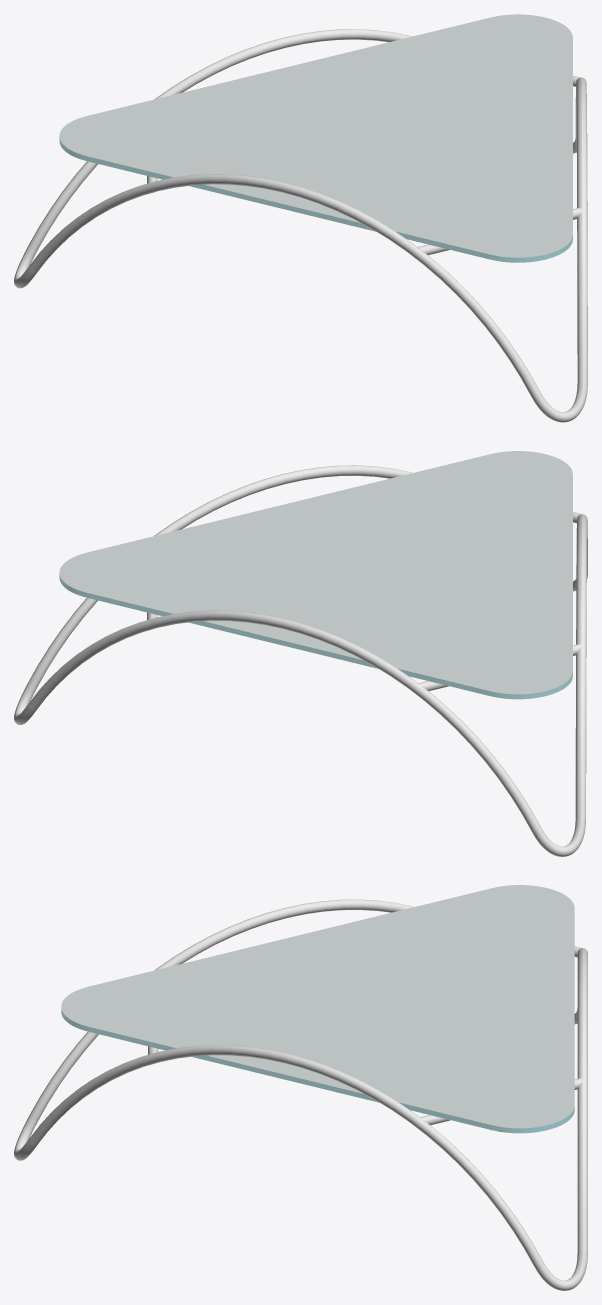
The model's file is RayCoffeeTable_mv.glb.
3 views of the same model, one above another, from view 1: azimuth 30°, elevation 25°; view 2: azimuth 150°, elevation 25°; view 3: azimuth 270°, elevation 25° (orthographic).
Visible parts, largest first — view 1: RayCoffeeTable_Top.001, RayCoffeeTable_Leg, RayCoffeeTable_Top; view 2: RayCoffeeTable_Top.001, RayCoffeeTable_Leg, RayCoffeeTable_Top; view 3: RayCoffeeTable_Top.001, RayCoffeeTable_Leg, RayCoffeeTable_Top.
Part boxes in pixels (bbox=[...]): RayCoffeeTable_Top.001: bbox=[59, 14, 572, 262]; RayCoffeeTable_Leg: bbox=[14, 29, 587, 422]; RayCoffeeTable_Top: bbox=[59, 137, 572, 262]; RayCoffeeTable_Top.001: bbox=[59, 451, 572, 699]; RayCoffeeTable_Leg: bbox=[14, 465, 587, 856]; RayCoffeeTable_Top: bbox=[59, 573, 572, 699]; RayCoffeeTable_Top.001: bbox=[61, 885, 574, 1133]; RayCoffeeTable_Leg: bbox=[14, 899, 587, 1290]; RayCoffeeTable_Top: bbox=[61, 1009, 574, 1133].
Size of the model in its own units: 1.18 by 0.3541 by 1.04.
